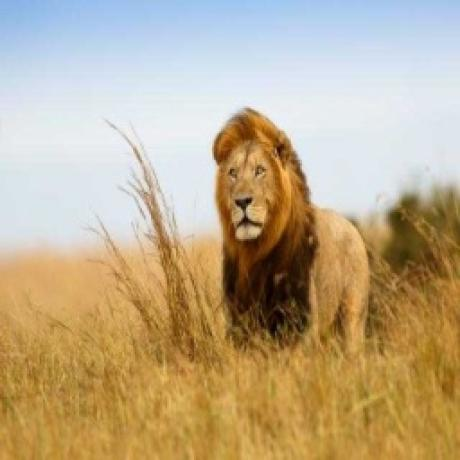Lion: (213, 108, 373, 348)
